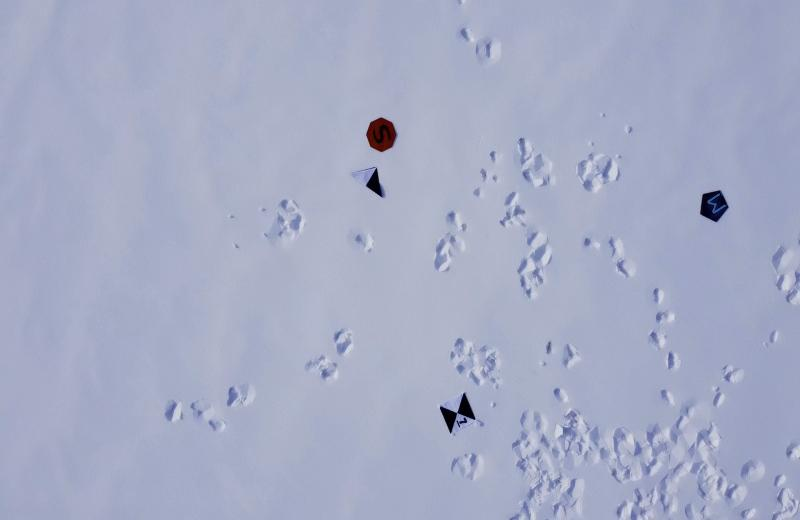Octagon: (364, 113, 396, 155)
Pentagon: (699, 189, 729, 225)
